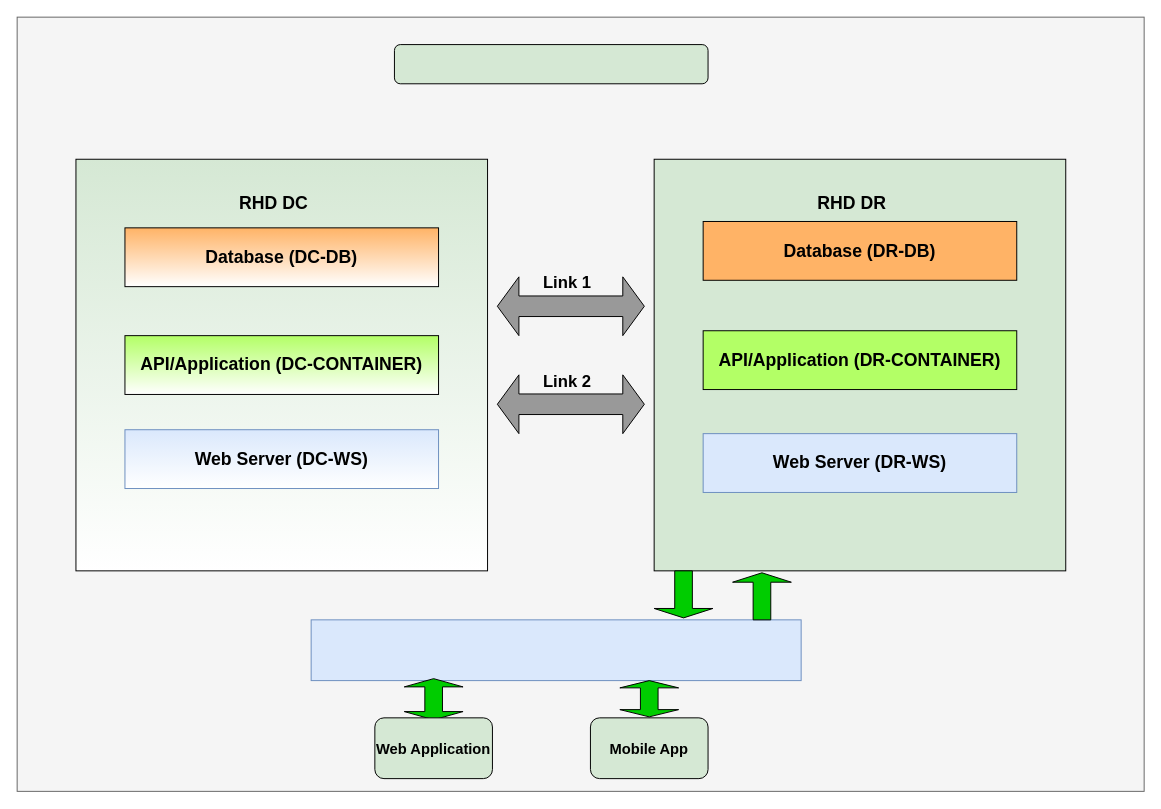
Some shapes in this 1161 by 809 pixel diagram are drawn without their labels. Each missing label, with the centre of its shape:
Application Gateway: [555,650]
Deployment Diagram DR Mode: [550,64]
